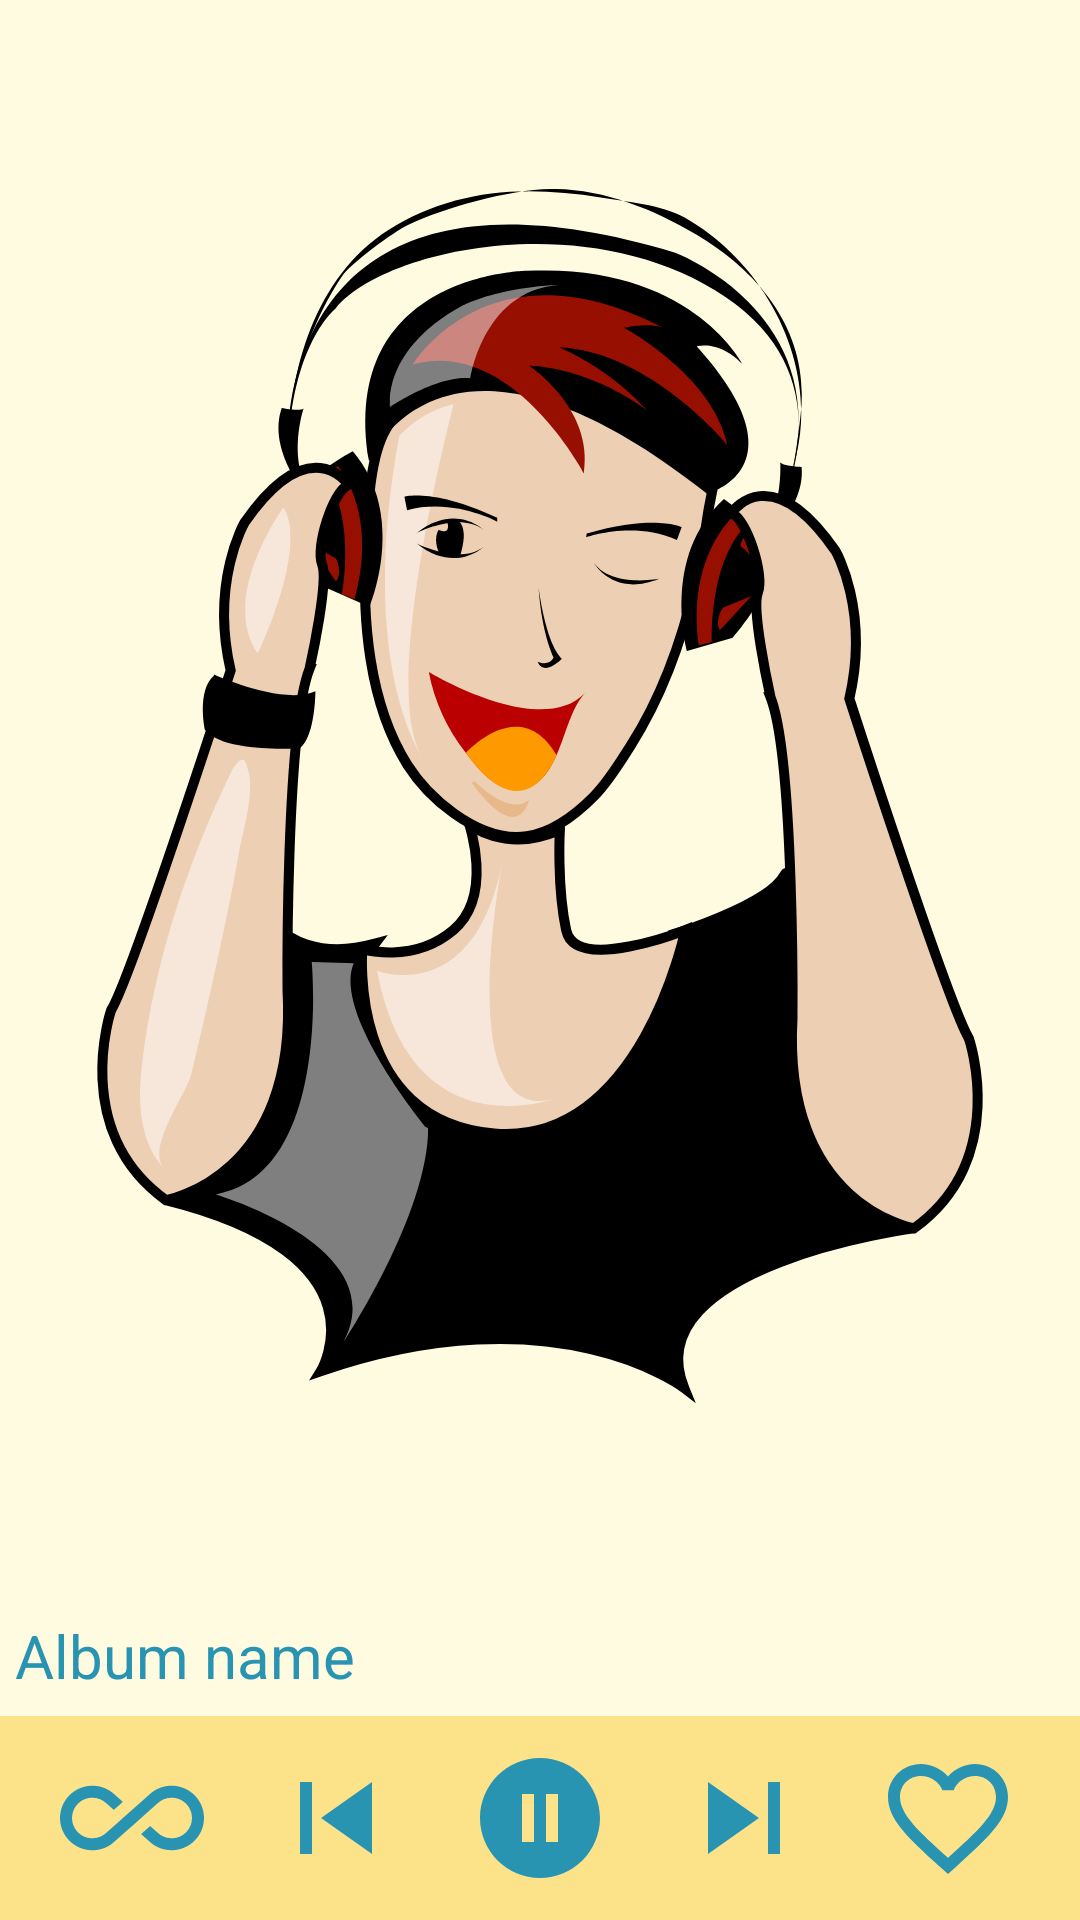

Screen size 1080 × 1920. Icon name, then its center in pixels as (x=x, y=y):
all inclusive: (x=132, y=1818)
favorite border: (x=948, y=1819)
pause circle: (x=540, y=1818)
skip next: (x=744, y=1818)
skip previous: (x=336, y=1818)
